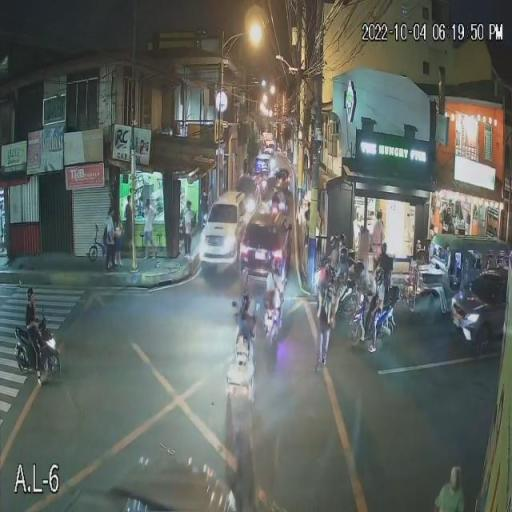helmet: (240, 294, 254, 311), (269, 256, 282, 274), (374, 270, 386, 284), (328, 235, 339, 248), (340, 248, 349, 261), (338, 233, 346, 244)
motorcycle: (13, 318, 61, 378), (224, 322, 256, 396), (369, 288, 398, 339), (344, 286, 370, 340), (314, 254, 342, 304), (261, 298, 285, 345)
rider: (24, 286, 48, 360), (329, 263, 352, 327), (366, 282, 385, 352), (234, 292, 258, 346), (265, 270, 284, 320)
